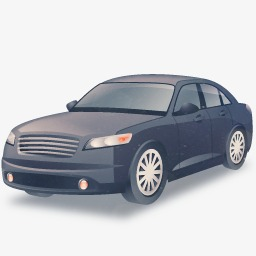car: (1, 72, 254, 208)
